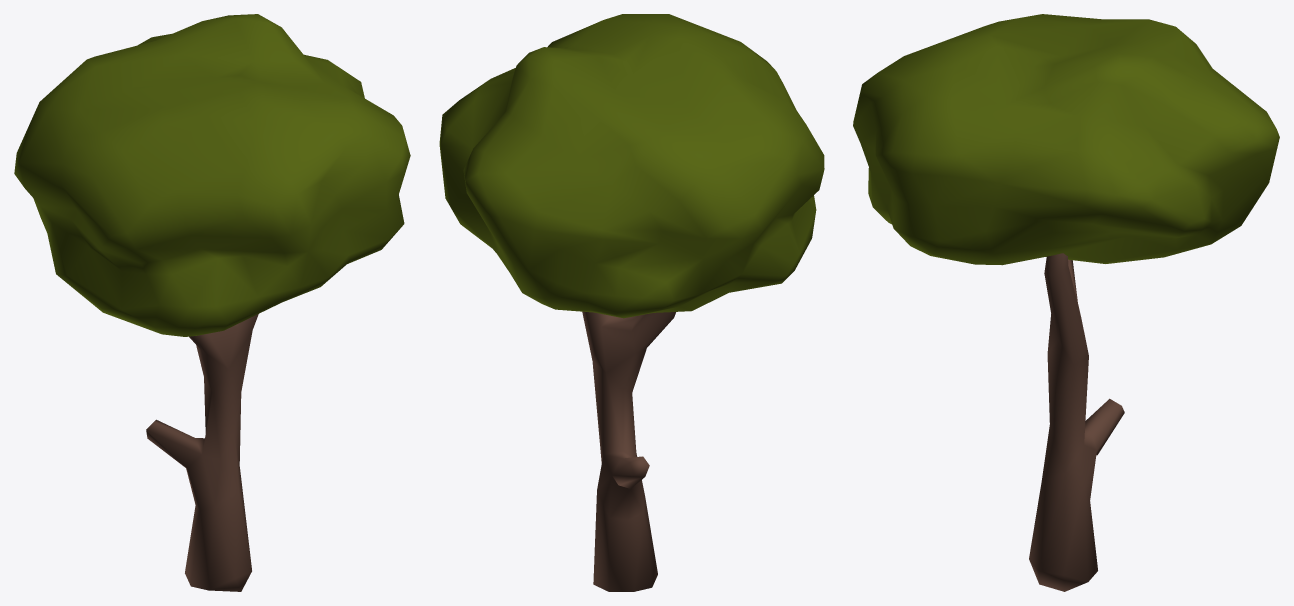
File: Tree4_1.fbx
3 views of the same model, side by side, from view 1: azimuth 30°, elevation 25°; view 2: azimuth 150°, elevation 25°; view 3: azimuth 270°, elevation 25° (orthographic).
Visible parts, largest first — view 1: Plane; view 2: Plane; view 3: Plane.
Part boxes in pixels (box(x1,y1,x2,y2)): Plane: box(14, 14, 410, 591); Plane: box(439, 14, 824, 591); Plane: box(853, 14, 1279, 591).
Bounding box in the file's own units: 314 × 505 × 353.
